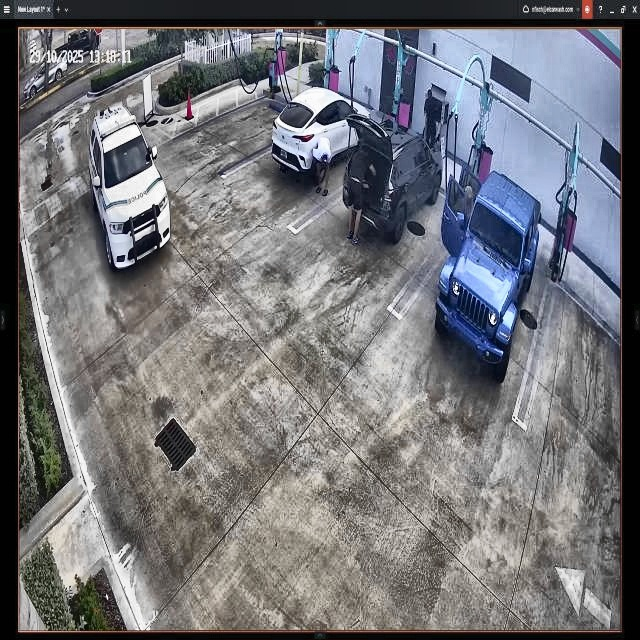Car: (439, 174, 539, 379), (88, 111, 174, 268), (340, 116, 440, 238), (265, 84, 370, 178)
